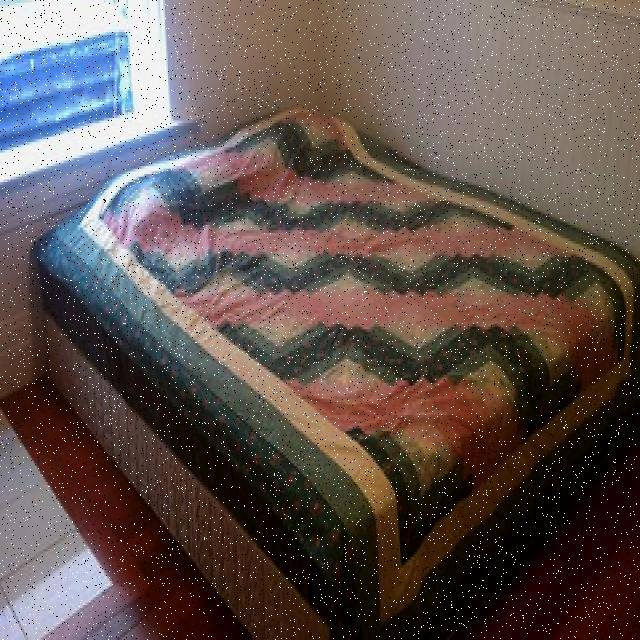bed: (32, 100, 640, 639)
